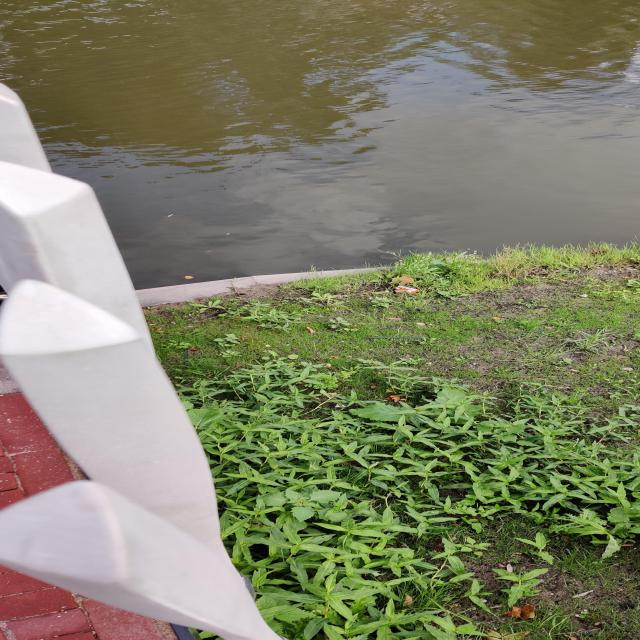litter: (305, 322, 329, 337)
